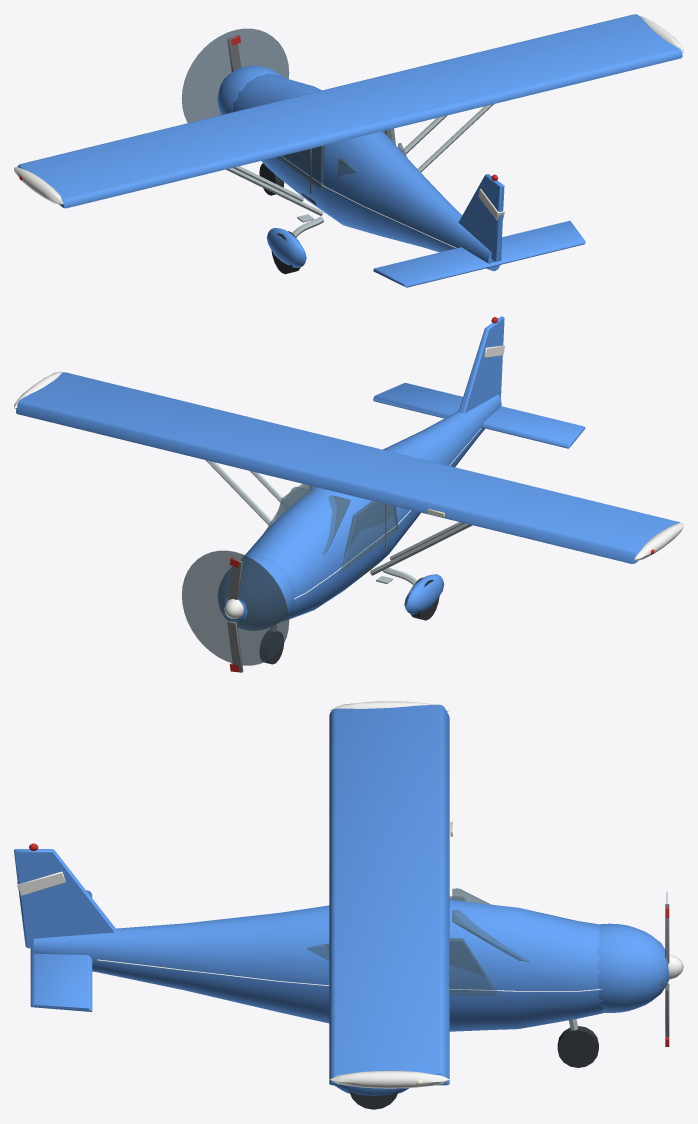
3 renders of one model, top to bottom at view 1: azimuth 30°, elevation 25°; view 2: azimuth 150°, elevation 25°; view 3: azimuth 270°, elevation 25°, orthographic. The views are drawn at different scales.
Visible parts, largest first — view 1: Body__paint, Disc__glass, Body__metal, Body__glass, Body__white, Body__rubber; view 2: Body__paint, Disc__glass, Body__glass, Body__metal, Body__white, Body__rubber, Prop__engine; view 3: Body__paint, Body__white, Body__glass, Body__rubber.
Boxes of the visible parts, <box> form: Body__paint: <box>17,14,682,287</box>; Disc__glass: <box>181,28,289,122</box>; Body__metal: <box>226,104,493,237</box>; Body__glass: <box>276,128,407,190</box>; Body__white: <box>14,16,683,248</box>; Body__rubber: <box>259,163,300,274</box>; Body__paint: <box>16,316,680,630</box>; Disc__glass: <box>181,550,289,665</box>; Body__glass: <box>264,483,403,570</box>; Body__metal: <box>205,460,472,631</box>; Body__white: <box>14,345,683,618</box>; Body__rubber: <box>259,577,439,664</box>; Prop__engine: <box>227,558,243,672</box>; Body__paint: <box>14,704,669,1095</box>; Body__white: <box>17,701,683,1088</box>; Body__glass: <box>306,888,528,995</box>; Body__rubber: <box>349,1026,598,1109</box>.
Size of the model in its own units: 11.24 by 3.08 by 8.43.
